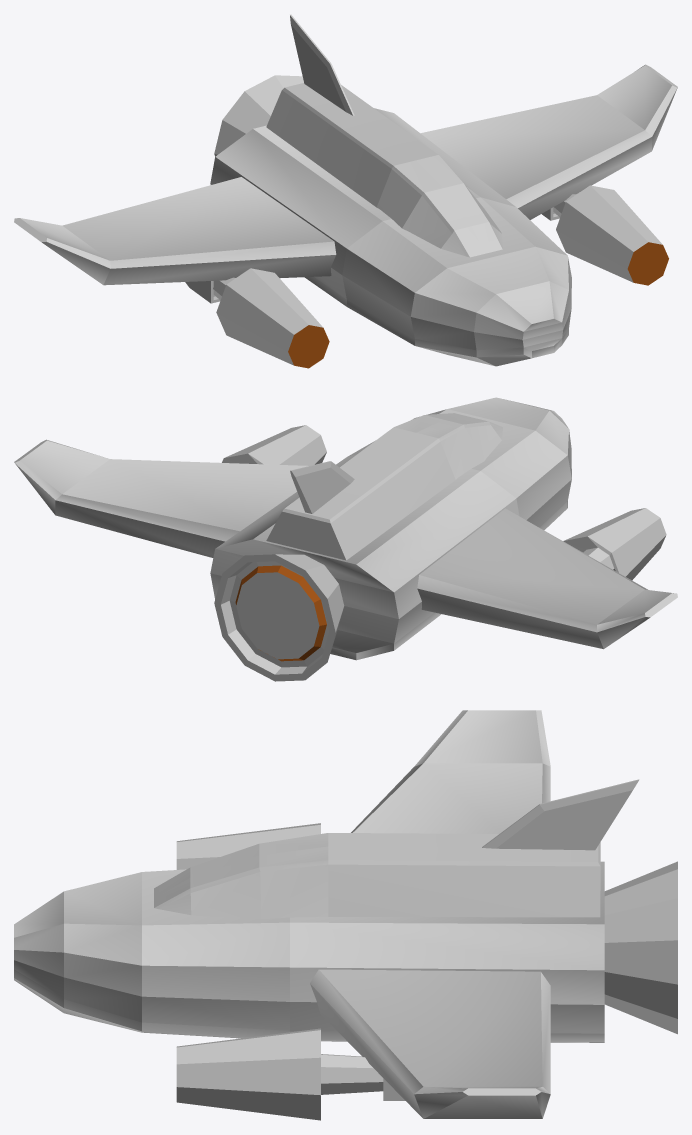
The picture shows the model from 3 angles, top to bottom: view 1: azimuth 30°, elevation 25°; view 2: azimuth 150°, elevation 25°; view 3: azimuth 270°, elevation 25°; orthographic projection. The views are drawn at different scales.
Visible parts, largest first — view 1: polySurface19.001.13, polySurface20.002.3, polySurface20.001.30; view 2: polySurface19.001.13, polySurface20.002.3, polySurface20.001.30; view 3: polySurface19.001.13, polySurface20.001.30, polySurface20.002.3.
Part boxes in pixels (x1=…): polySurface19.001.13: x1=14, y1=14, x2=677, y2=366; polySurface20.002.3: x1=185, y1=268, x2=329, y2=368; polySurface20.001.30: x1=542, y1=185, x2=668, y2=285; polySurface19.001.13: x1=14, y1=397, x2=677, y2=681; polySurface20.002.3: x1=563, y1=508, x2=666, y2=580; polySurface20.001.30: x1=222, y1=425, x2=326, y2=465; polySurface19.001.13: x1=14, y1=710, x2=677, y2=1118; polySurface20.001.30: x1=176, y1=1028, x2=405, y2=1120; polySurface20.002.3: x1=176, y1=823, x2=320, y2=869.
Size of the model in its own units: 787 by 235 by 574.
